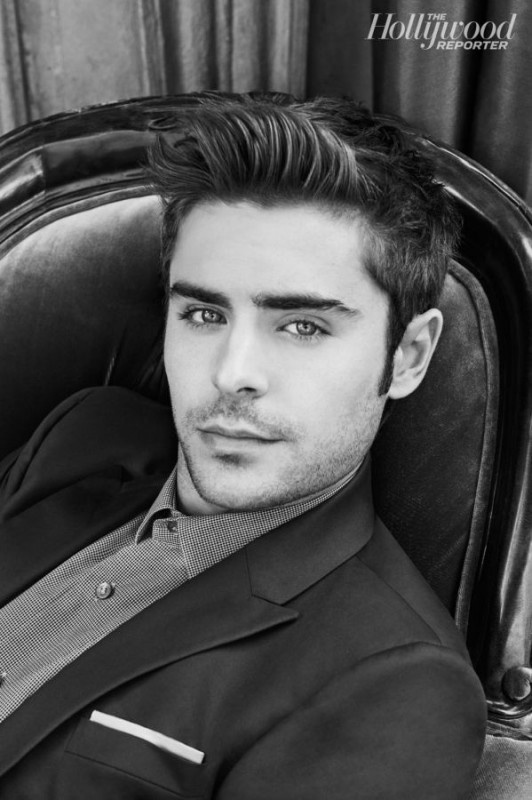bad: (111, 231, 379, 498)
